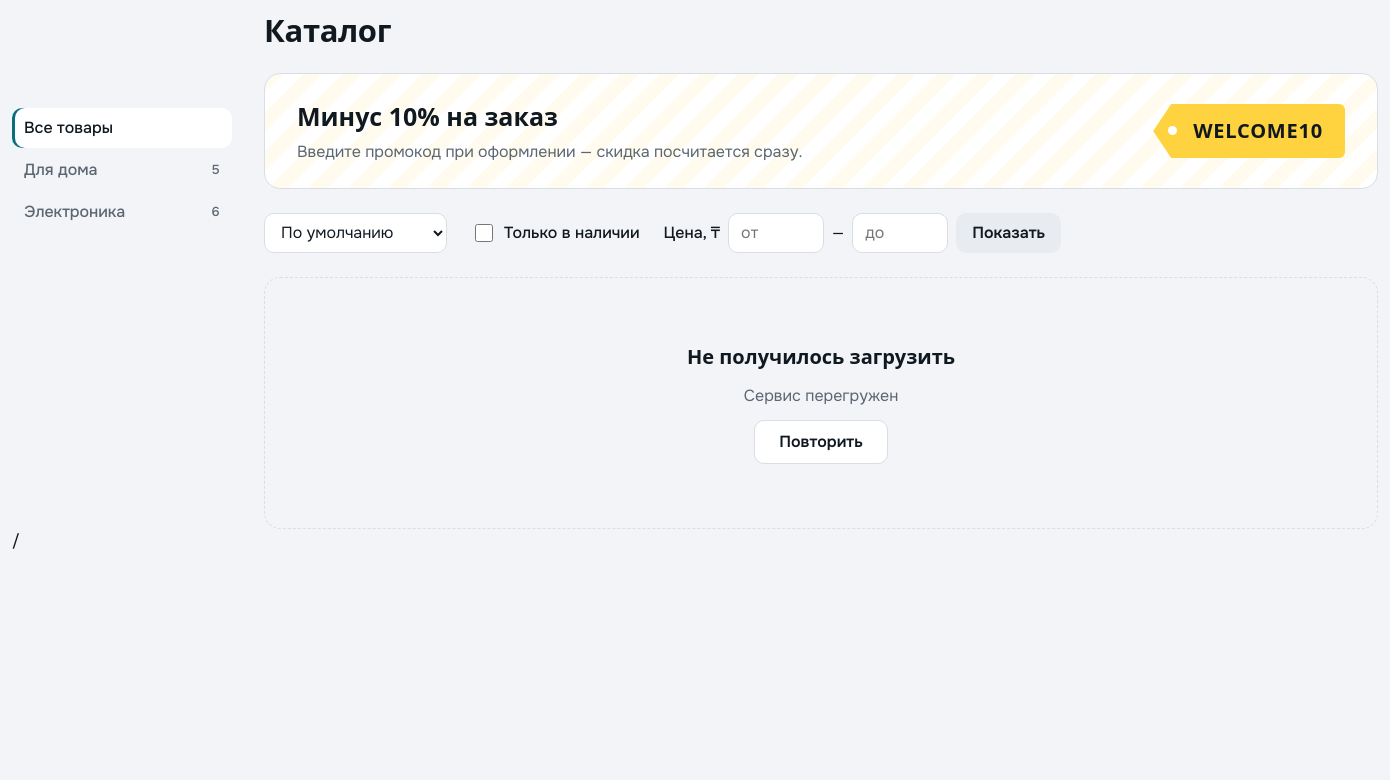
Test: ошибка сервера — сообщение и кнопка «Повторить», которая работает
Expected: the text "Сервис перегружен" is shown, [744,384,898,408]
Click the button "Повторить".
click(821, 442)  # box [754,420,888,464]
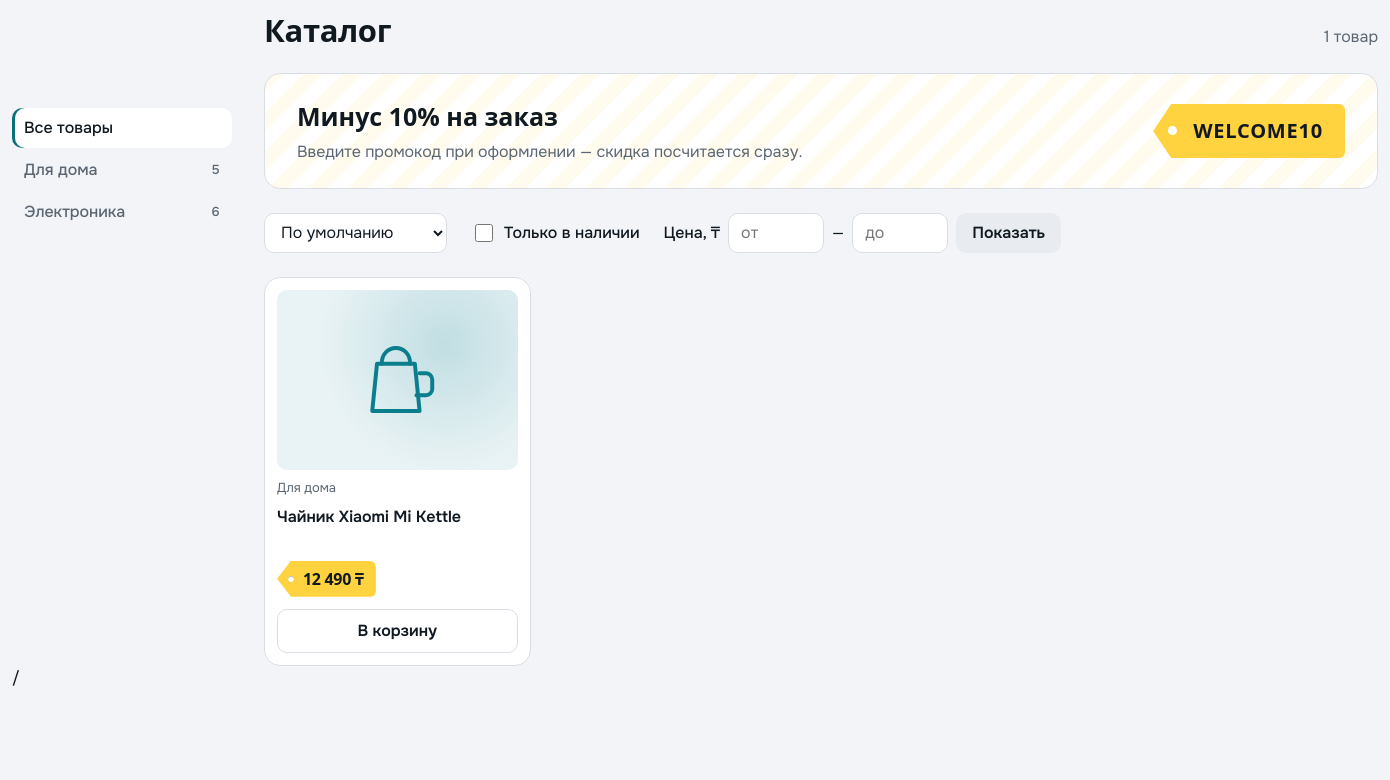
Result: the element with test id "product-card" is shown at [264,277,530,666]
